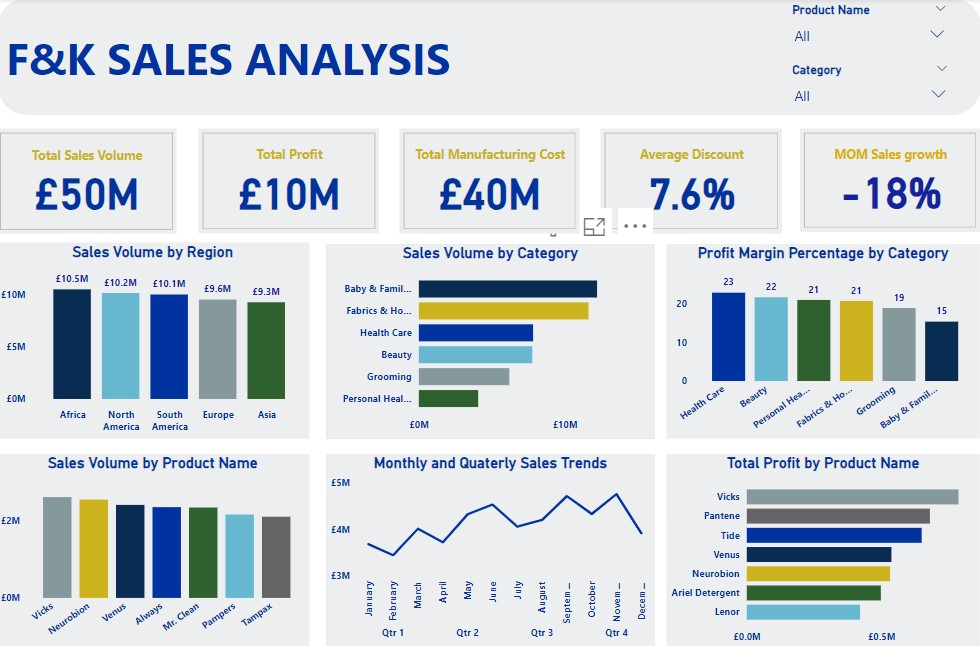

The dashboard page shown, as its layout file describes it:
{"tool":"powerbi","page":{"name":"Page 1","canvas":[1280,850],"ordinal":0},"visuals":[{"type":"shape","box":[1.9,0,1254,149.1],"z":0,"group":"g1"},{"type":"cardVisual","fields":{"Data":["Sum(Transaction Details.Sales Volume)"]},"box":[0,166.7,230,134],"z":1000,"group":"g1"},{"type":"cardVisual","fields":{"Data":["Sum(Transaction Details.Total Profit)"]},"box":[257.7,167.1,230.3,133.1],"z":2000,"group":"g1"},{"type":"cardVisual","fields":{"Data":["Campaign Details.Avg Discount"]},"box":[769.8,166.3,231.3,133.8],"z":3000,"group":"g1"},{"type":"columnChart","title":"Sales Volume by Region","fields":{"Category":["Transaction Details.Region"],"Y":["Sum(Transaction Details.Sales Volume)"]},"box":[0.7,312.3,399.4,250.1],"z":4000,"group":"g1"},{"type":"clusteredBarChart","title":"Sales Volume by Category","fields":{"Category":["Product Details.Category"],"Y":["Sum(Transaction Details.Sales Volume)"]},"box":[419.9,314.1,419.2,248.3],"z":5000,"group":"g1"},{"type":"lineChart","title":"Monthly and Quaterly Sales Trends","fields":{"Y":["Sum(Transaction Details.Sales Volume)"],"Category":["Transaction Details.Invoice Date.Variation.Date Hierarchy.Quarter","Transaction Details.Invoice Date.Variation.Date Hierarchy.Month"]},"box":[419.9,580.4,419.2,250.1],"z":6000,"group":"g1"},{"type":"lineClusteredColumnComboChart","title":"Sales Volume by Product Name","fields":{"Category":["Product Details.Product Name"],"Y":["Sum(Transaction Details.Sales Volume)"]},"box":[0.7,580.4,399.4,250.1],"z":7000,"group":"g1"},{"type":"columnChart","title":"Profit Margin Percentage by Category","fields":{"Category":["Product Details.Category"],"Y":["Campaign Details.Profit Margin (%)"]},"box":[855.3,314.1,399.4,248.3],"z":8000,"group":"g1"},{"type":"clusteredBarChart","title":"Total Profit by Product Name","fields":{"Category":["Product Details.Product Name"],"Y":["Sum(Transaction Details.Total Profit)"]},"box":[855.3,580.4,399.4,250.1],"z":9000,"group":"g1"},{"type":"cardVisual","fields":{"Data":["Campaign Details.Total Manufacturing Cost"]},"box":[513.6,166.3,229.4,133.8],"z":10000,"group":"g1"},{"type":"cardVisual","fields":{"Data":["Campaign Details.MOM Sales growth"]},"box":[1024.6,166.3,229.4,131.9],"z":11000,"group":"g1"},{"type":"slicer","fields":{"Values":["Product Details.Product Name"]},"box":[1001.7,0,221.7,61.2],"z":12000,"group":"g1"},{"type":"slicer","fields":{"Values":["Product Details.Category"]},"box":[1001.7,76.5,223.7,72.6],"z":13000,"group":"g1"},{"type":"group","id":"g1","title":"Group 1","box":[0,0,1255.9,830.5],"z":13001}]}

Visuals, with their boxes in screenshot pixels (x1, y1, x2, y2), scaled from the page's 1280x850 canvas onto the 980x646 screenshot:
shape: crop(1, 0, 962, 113)
cardVisual - Sum(Transaction Details.Sales Volume): crop(0, 127, 176, 229)
cardVisual - Sum(Transaction Details.Total Profit): crop(197, 127, 374, 228)
cardVisual - Campaign Details.Avg Discount: crop(589, 126, 766, 228)
"Sales Volume by Region" columnChart: crop(1, 237, 306, 427)
"Sales Volume by Category" clusteredBarChart: crop(321, 239, 642, 427)
"Monthly and Quaterly Sales Trends" lineChart: crop(321, 441, 642, 631)
"Sales Volume by Product Name" lineClusteredColumnComboChart: crop(1, 441, 306, 631)
"Profit Margin Percentage by Category" columnChart: crop(655, 239, 961, 427)
"Total Profit by Product Name" clusteredBarChart: crop(655, 441, 961, 631)
cardVisual - Campaign Details.Total Manufacturing Cost: crop(393, 126, 569, 228)
cardVisual - Campaign Details.MOM Sales growth: crop(784, 126, 960, 227)
slicer - Product Details.Product Name: crop(767, 0, 937, 47)
slicer - Product Details.Category: crop(767, 58, 938, 113)
"Group 1" group: crop(0, 0, 962, 631)
